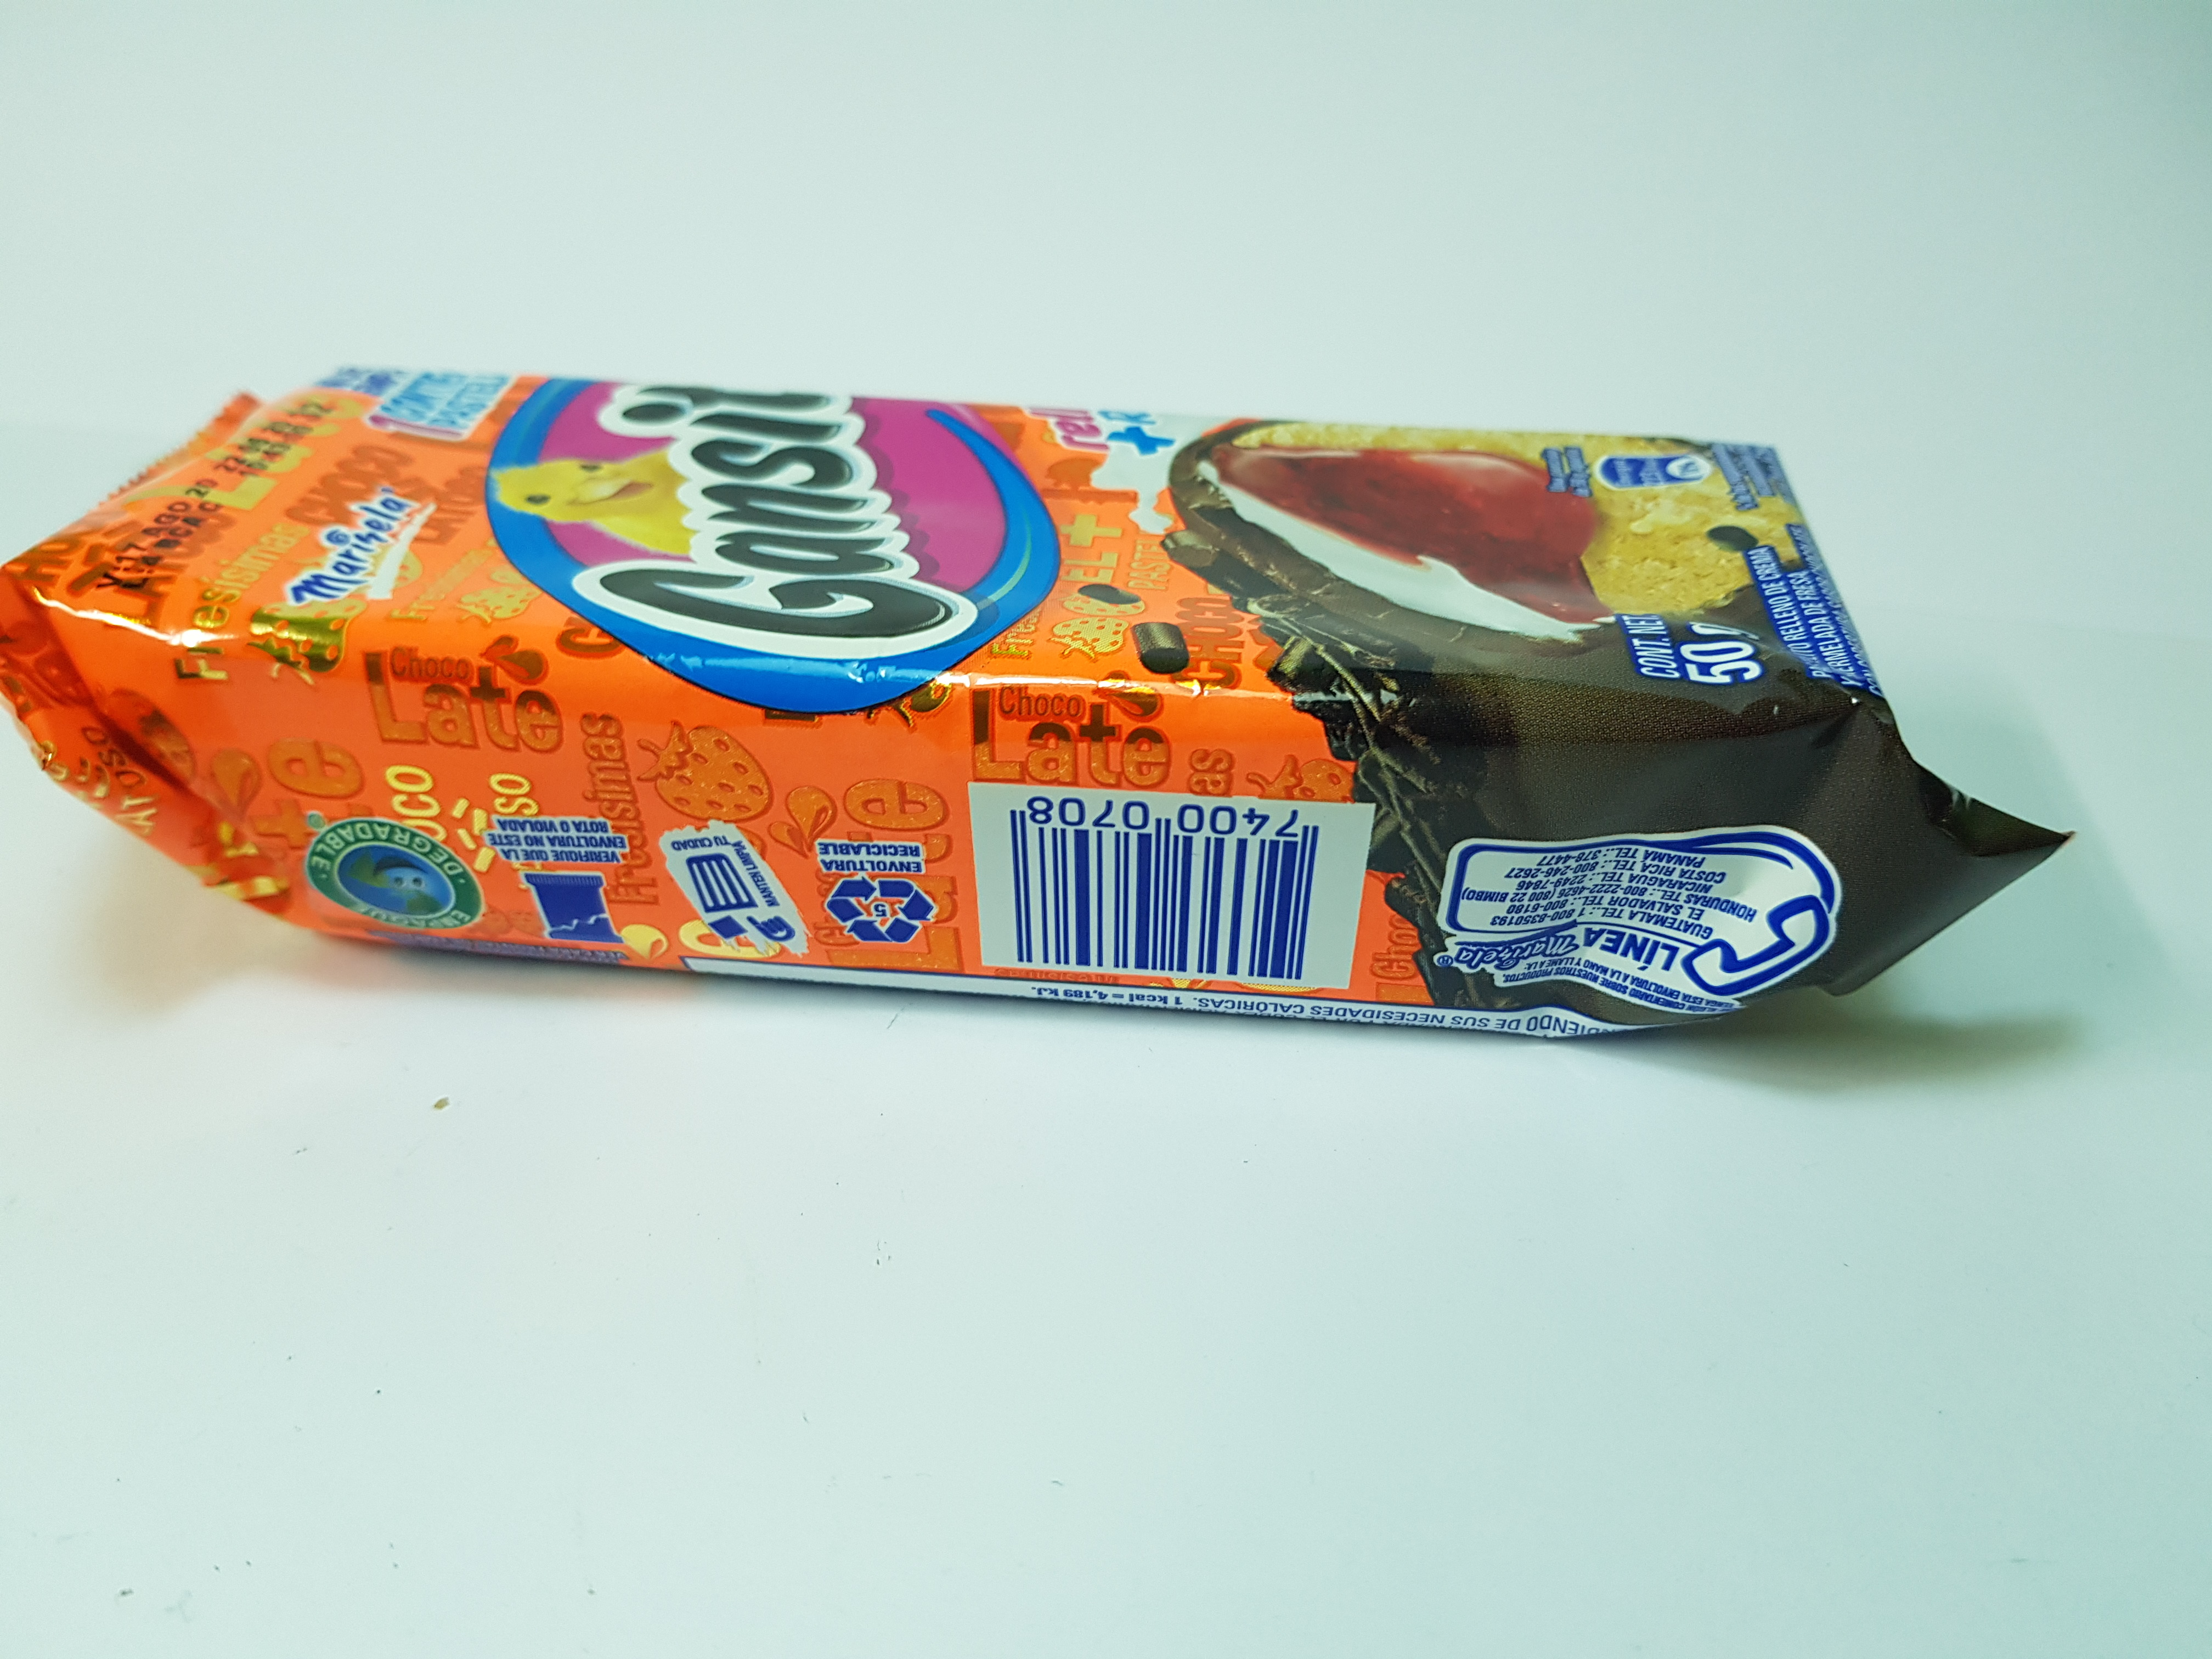gansito: (5, 324, 2067, 1070)
